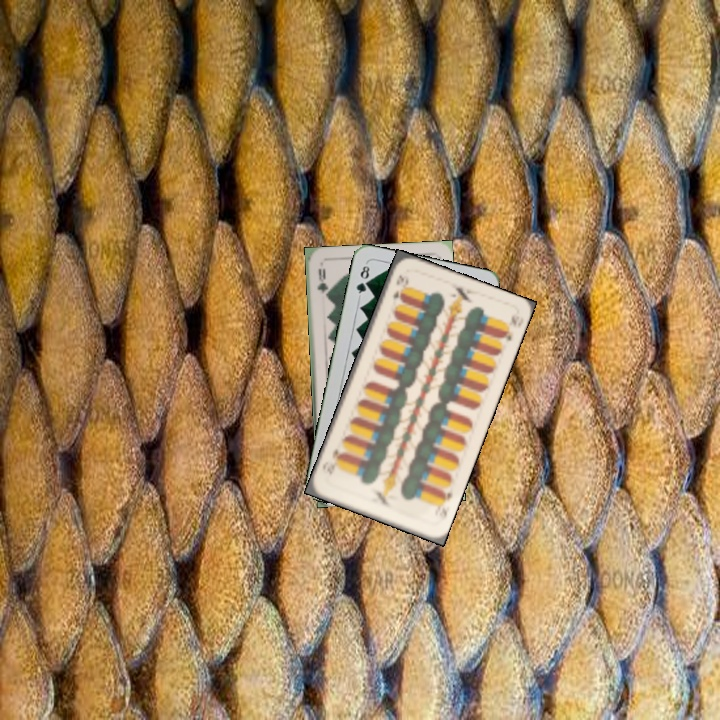E10: (432, 485, 455, 524), (388, 271, 411, 307)
G8: (352, 259, 372, 300)
G9: (313, 264, 330, 300)
